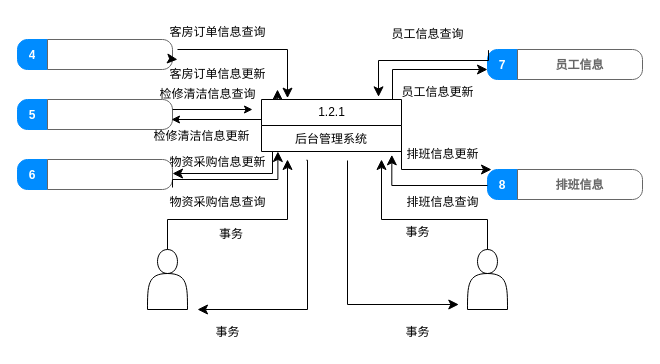
The diagram is 660 pixels wide and 364 high, and some of its shapes have lost their labels. Here are the shapes that lost their labels. From the top down, the centre of each, then its label:
the point at 109,54: 客房订单信息
the point at 109,114: 检修清洁信息
the point at 109,174: 物资采购信息数据
